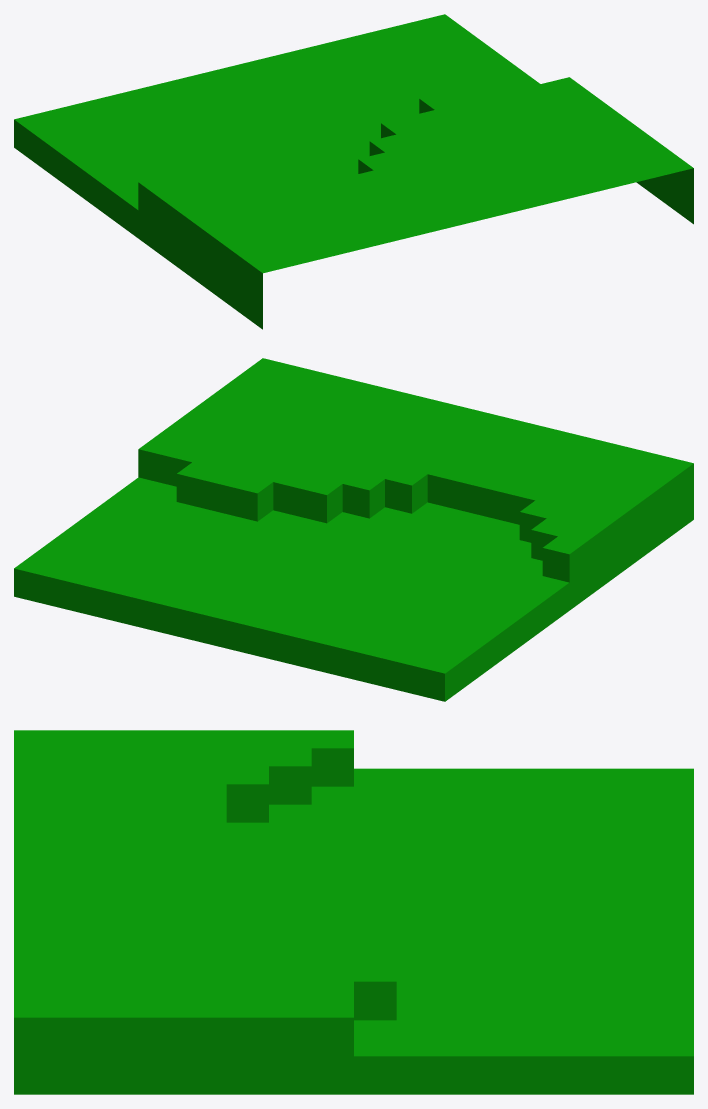
The model's file is Straight9.fbx.
3 views of the same model, one above another, from view 1: azimuth 30°, elevation 25°; view 2: azimuth 150°, elevation 25°; view 3: azimuth 270°, elevation 25° (orthographic). The views are drawn at different scales.
Visible parts, largest first — view 1: Matrix; view 2: Matrix; view 3: Matrix.
Part boxes in pixels (bbox=[...]): Matrix: bbox=[14, 14, 693, 329]; Matrix: bbox=[14, 358, 693, 701]; Matrix: bbox=[14, 730, 693, 1094].
Size of the model in its own units: 16 by 2 by 16.
1 material, 1 textured.
